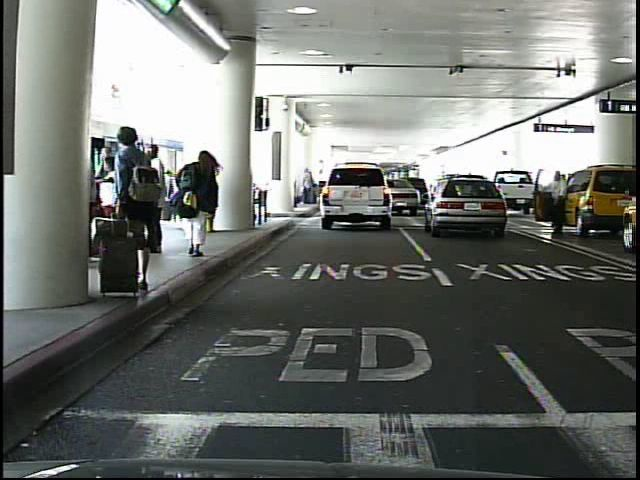person: (102, 118, 155, 293), (182, 146, 224, 263), (140, 143, 172, 258), (170, 158, 198, 233), (546, 173, 569, 236)
